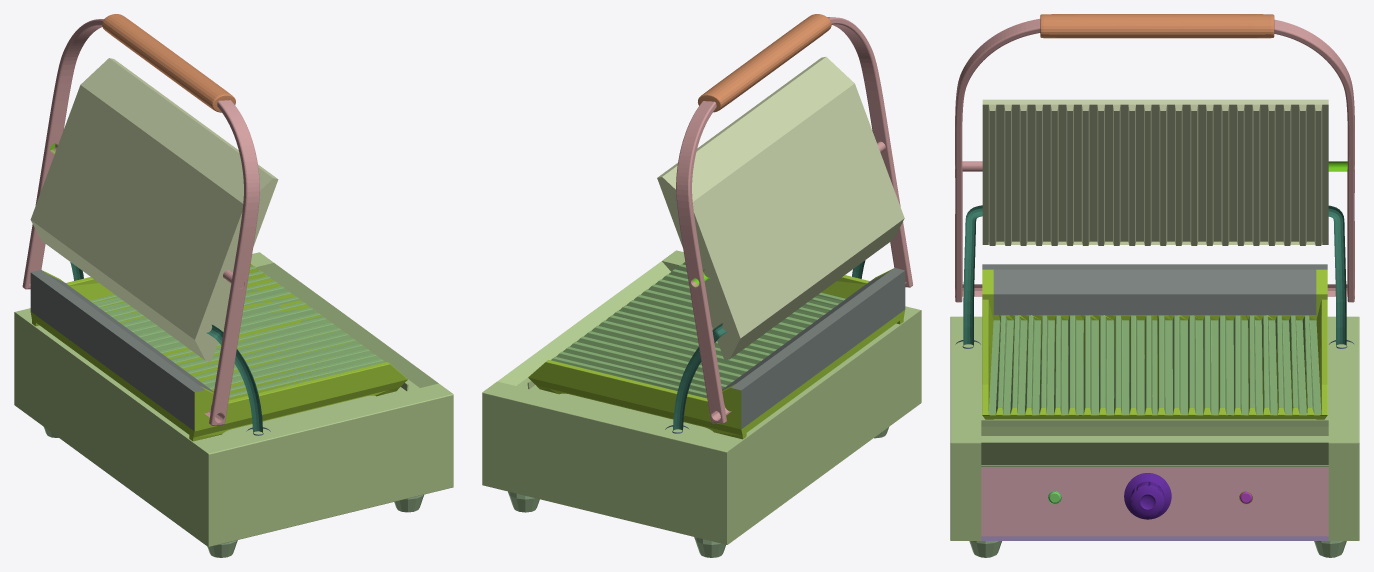
The picture shows the model from 3 angles, left to right: view 1: azimuth 30°, elevation 25°; view 2: azimuth 150°, elevation 25°; view 3: azimuth 270°, elevation 25°; orthographic projection. The views are drawn at different scales.
Visible parts, largest first — view 1: world; view 2: world; view 3: world.
Boxes of the visible parts, box(x1,y1,x2,y2) form: world: box(14, 14, 453, 557); world: box(482, 14, 921, 557); world: box(950, 14, 1359, 557).
Bounding box in the file's own units: 0.6282 × 0.9959 × 0.8114.
